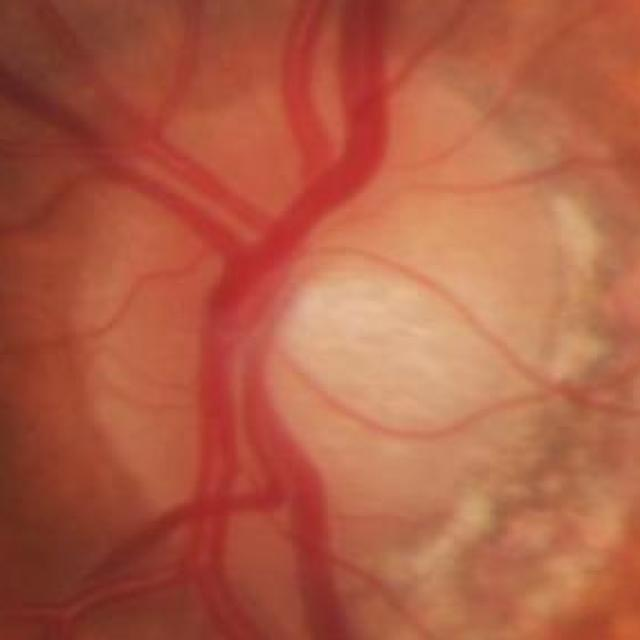OC: (240, 250, 488, 480)
OD: (83, 62, 556, 567)
